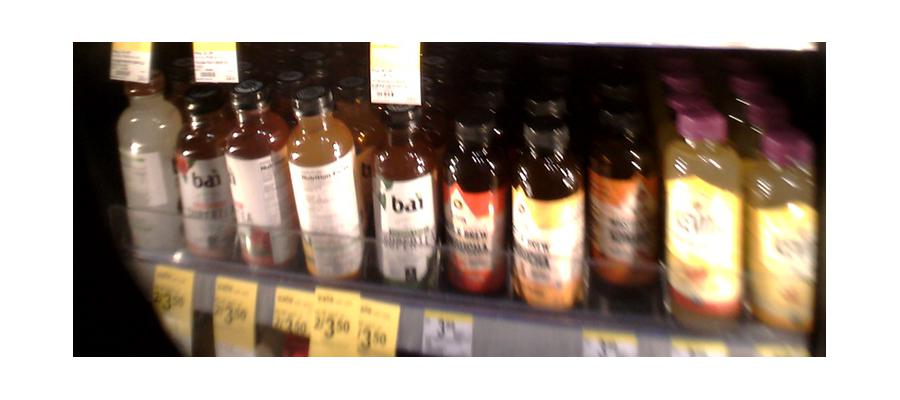bottle: (665, 106, 746, 333), (510, 111, 584, 318), (289, 86, 362, 283), (745, 134, 815, 337), (369, 103, 440, 290), (227, 79, 294, 274), (588, 114, 655, 304), (441, 108, 507, 296), (118, 75, 177, 260), (177, 84, 232, 262)
